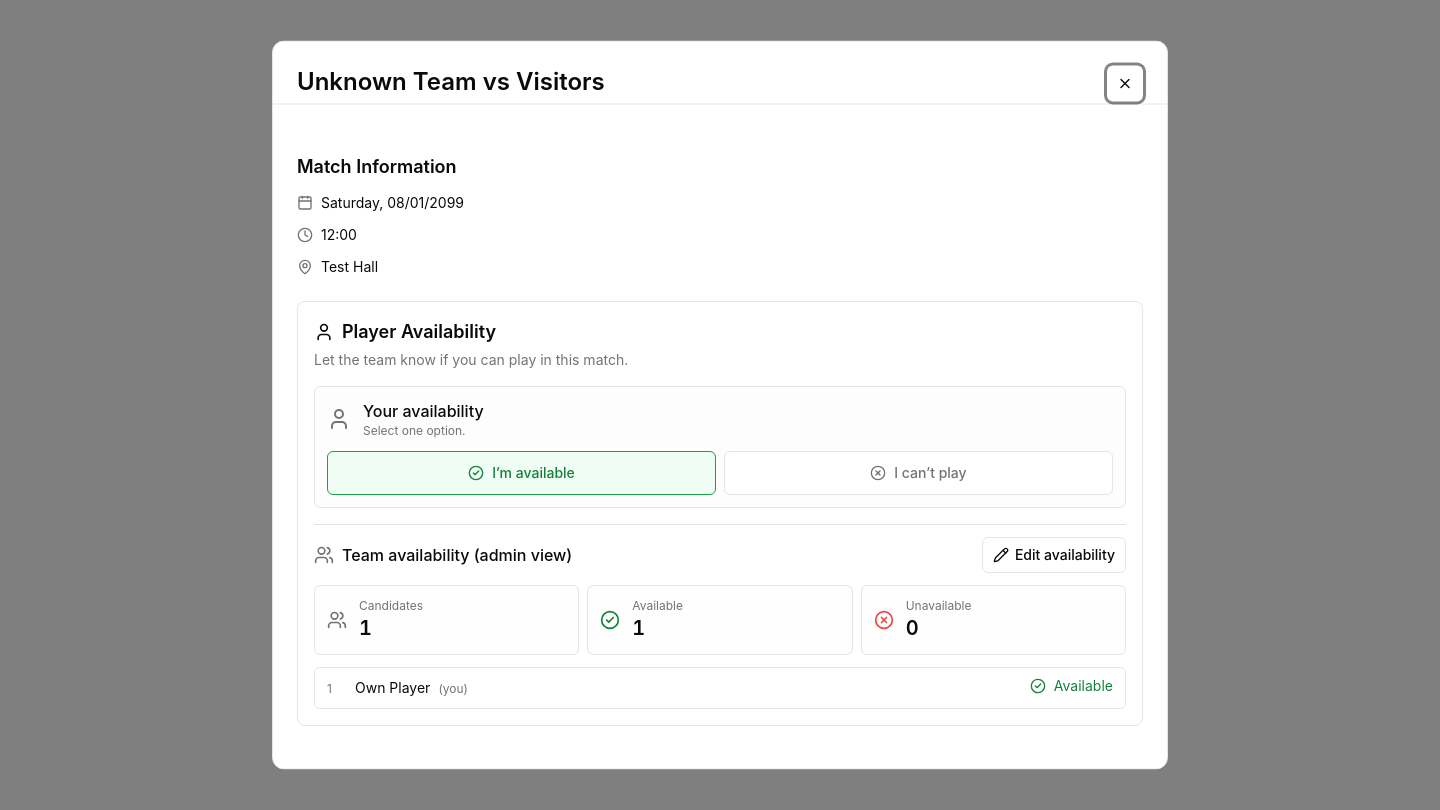
Scenario: explicit Match Availability › blocks stale availability controls and offers an explicit reload when conflict refresh fails
The width and height of the screenshot is (1440, 810).
Click the button "Edit availability".
click(1054, 554)  # box x1=982 y1=536 x2=1126 y2=572
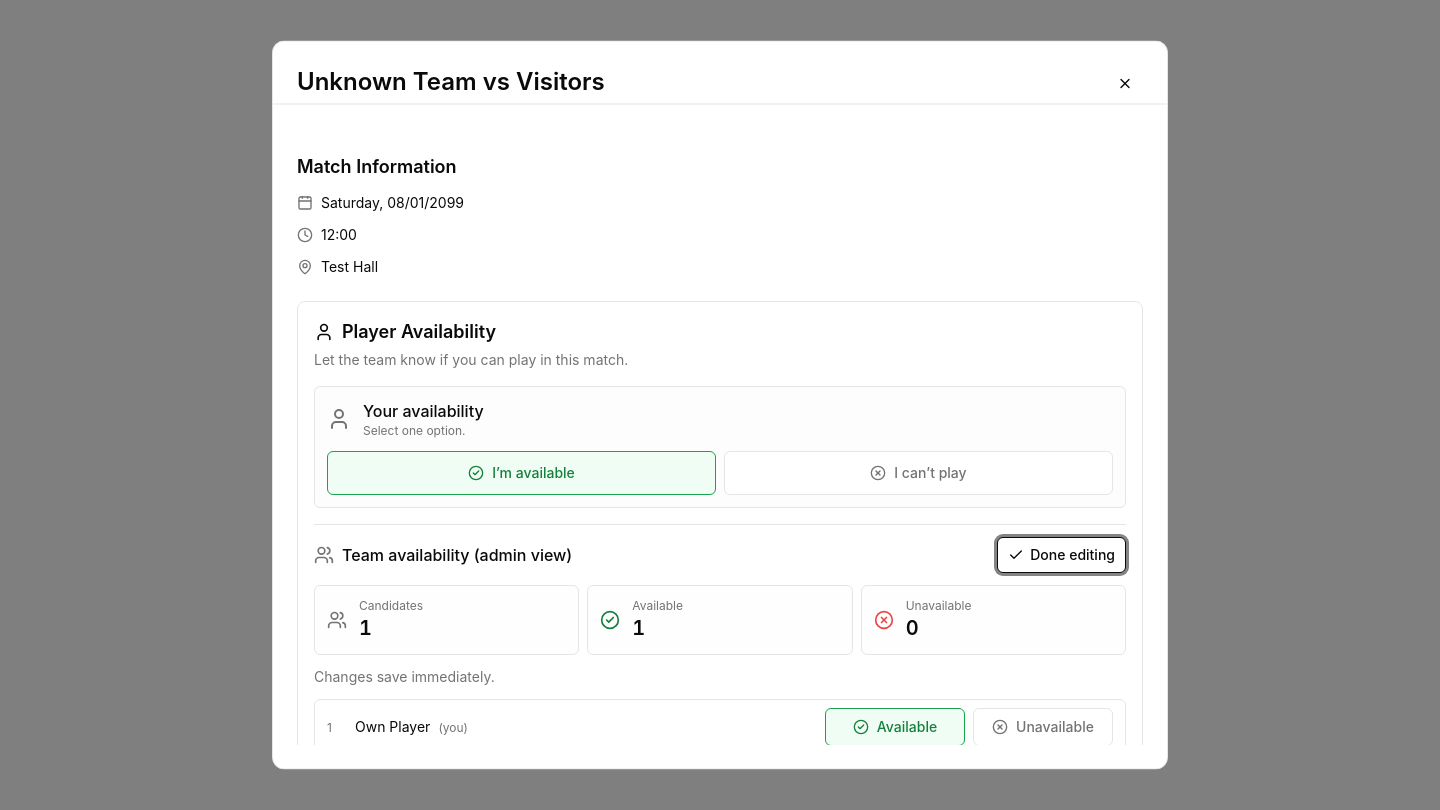
Click the button "Unavailable".
click(1043, 726)  # box x1=973 y1=708 x2=1113 y2=746
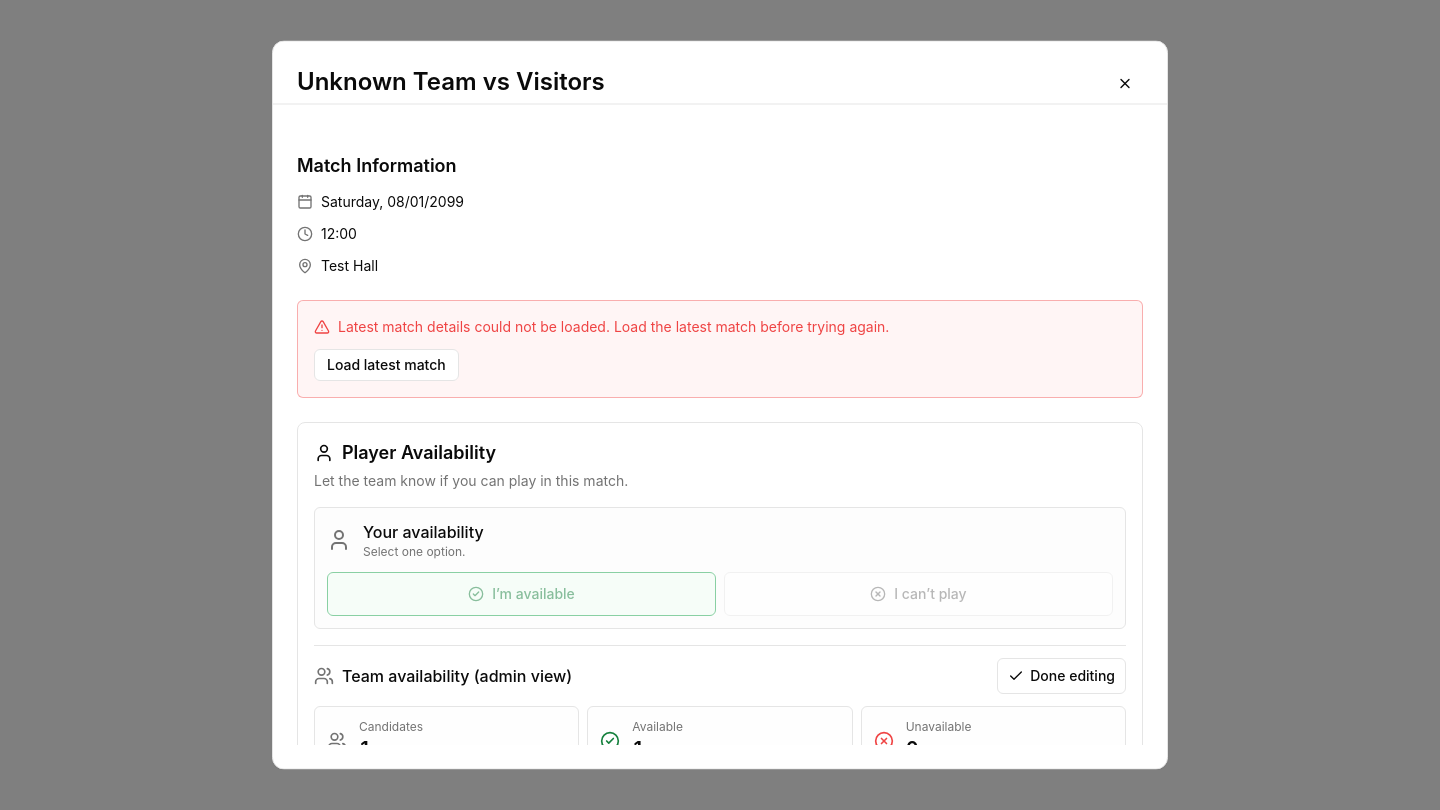
Expected: the message shows "Latest match details could not be loaded. Load the latest match before trying again.", x1=338 y1=318 x2=889 y2=334
Click the button "Load latest match".
click(386, 364)  # box x1=314 y1=348 x2=459 y2=380
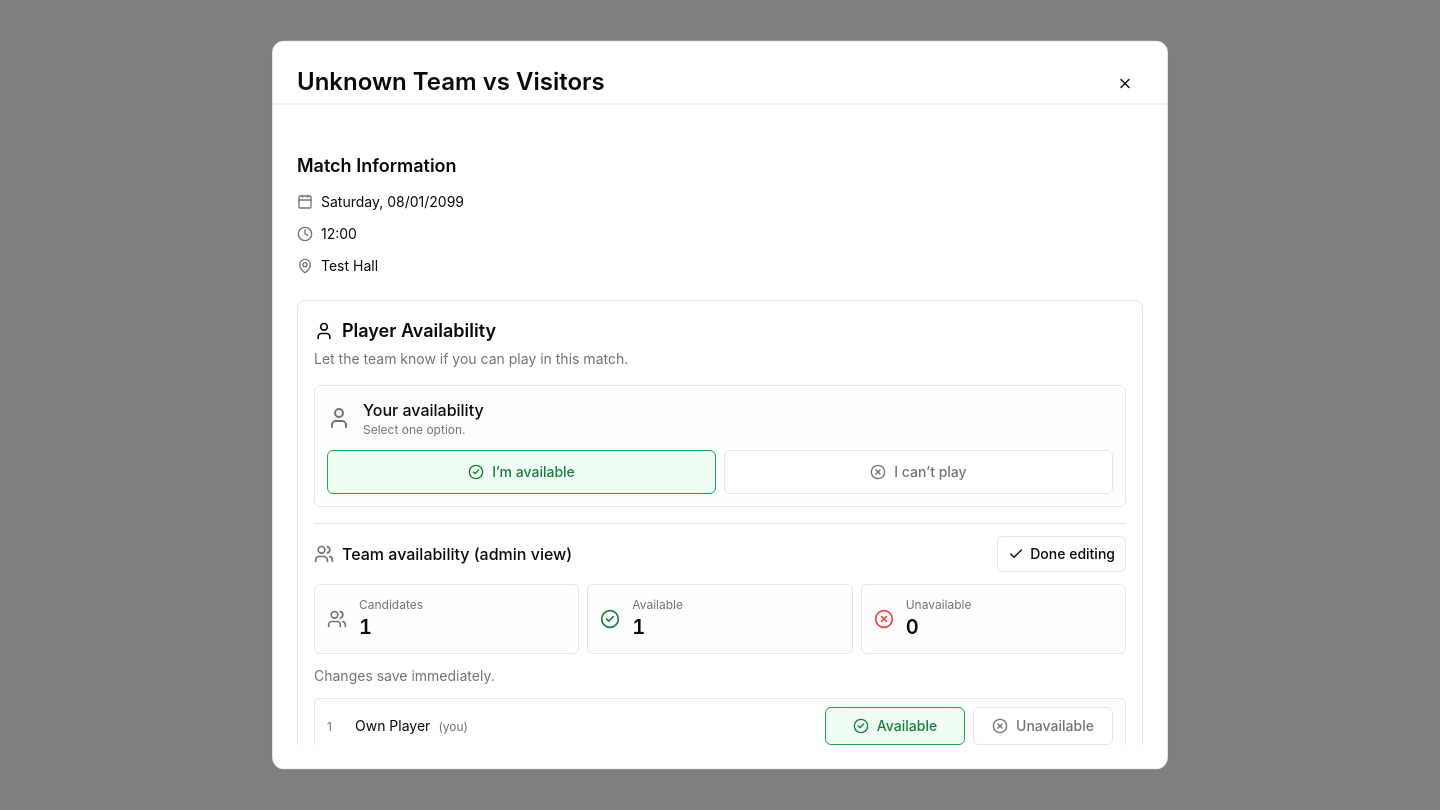
Expected: the message is gone
Expected: the button "Available" is enabled, x1=825 y1=706 x2=965 y2=744
